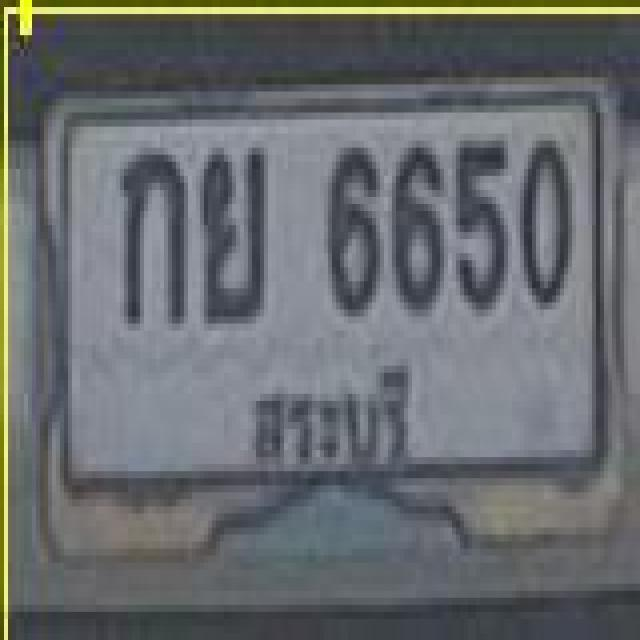license_plate: (36, 86, 619, 592)
